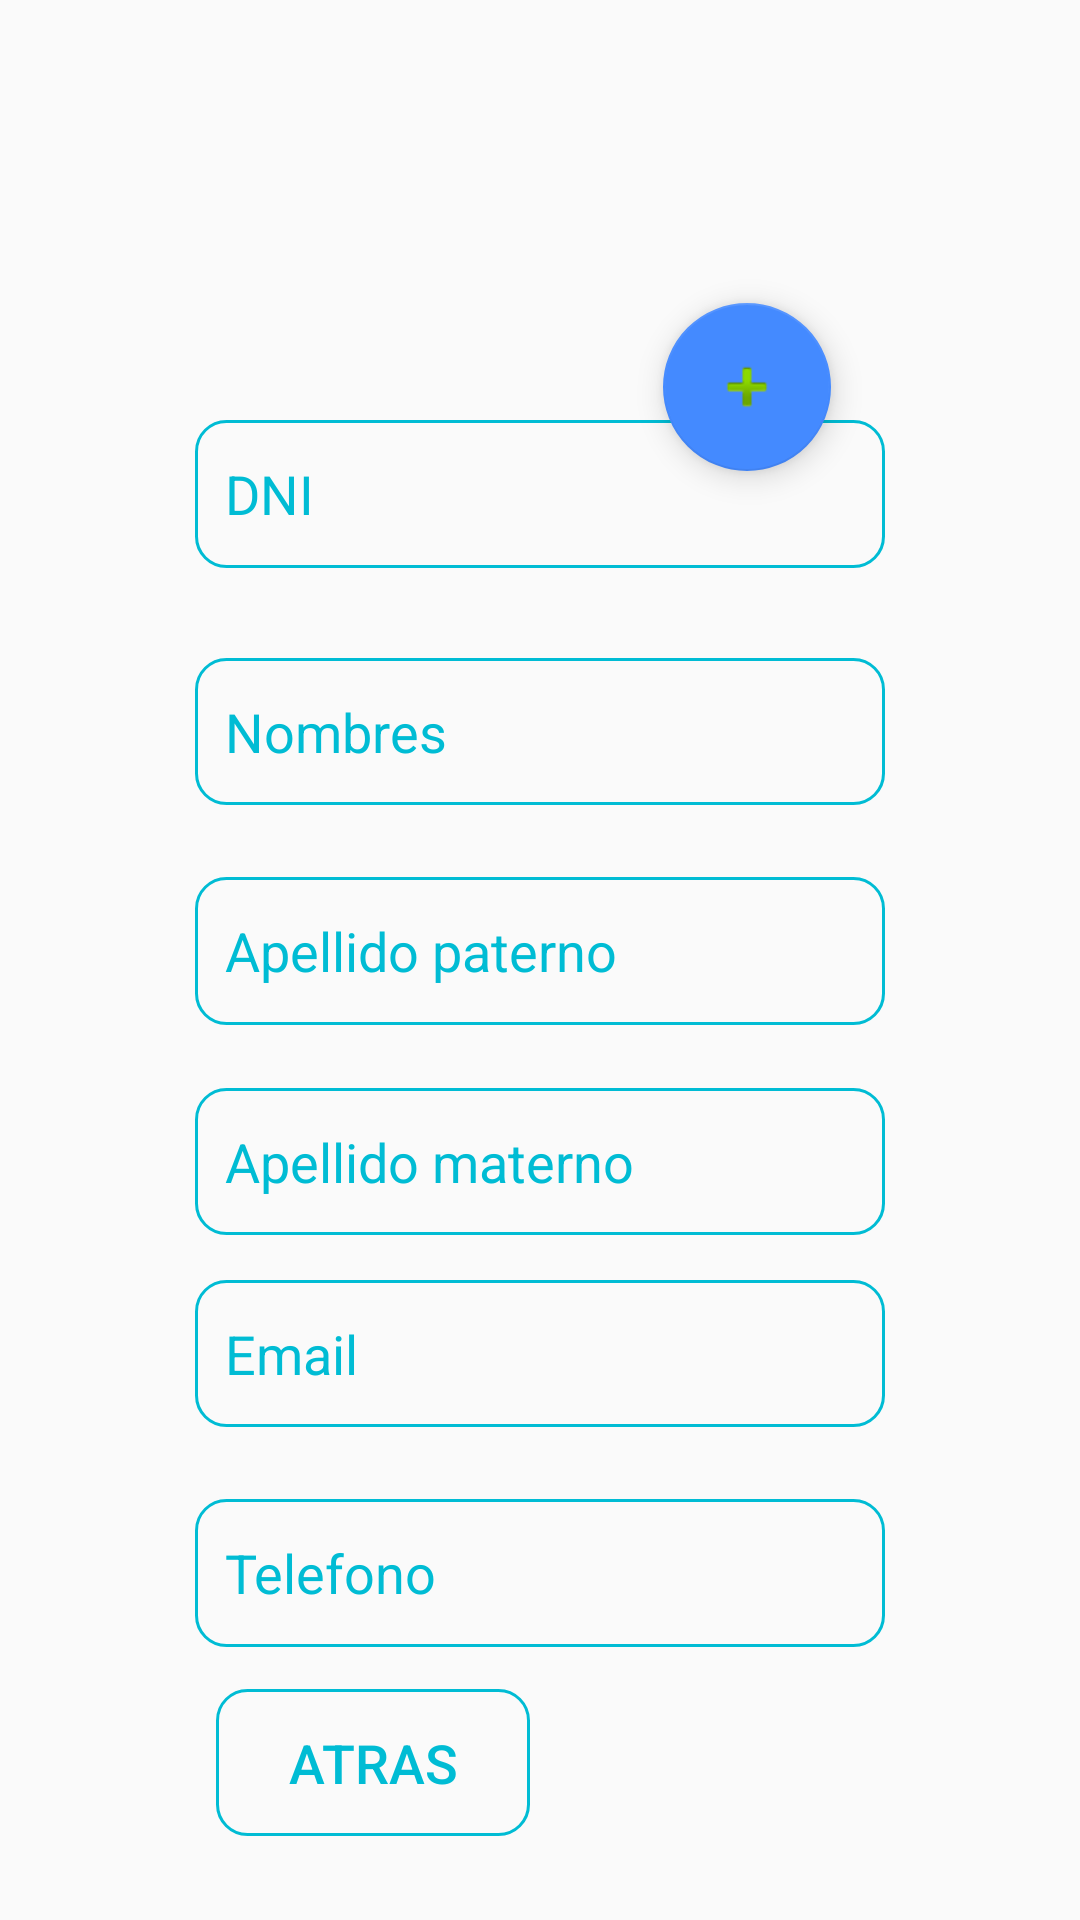

Icon bounding boxes for this 1080*1920 phone screenshot, format bbox=(x1, y1, x2, y2):
add: bbox=(663, 303, 831, 471)
